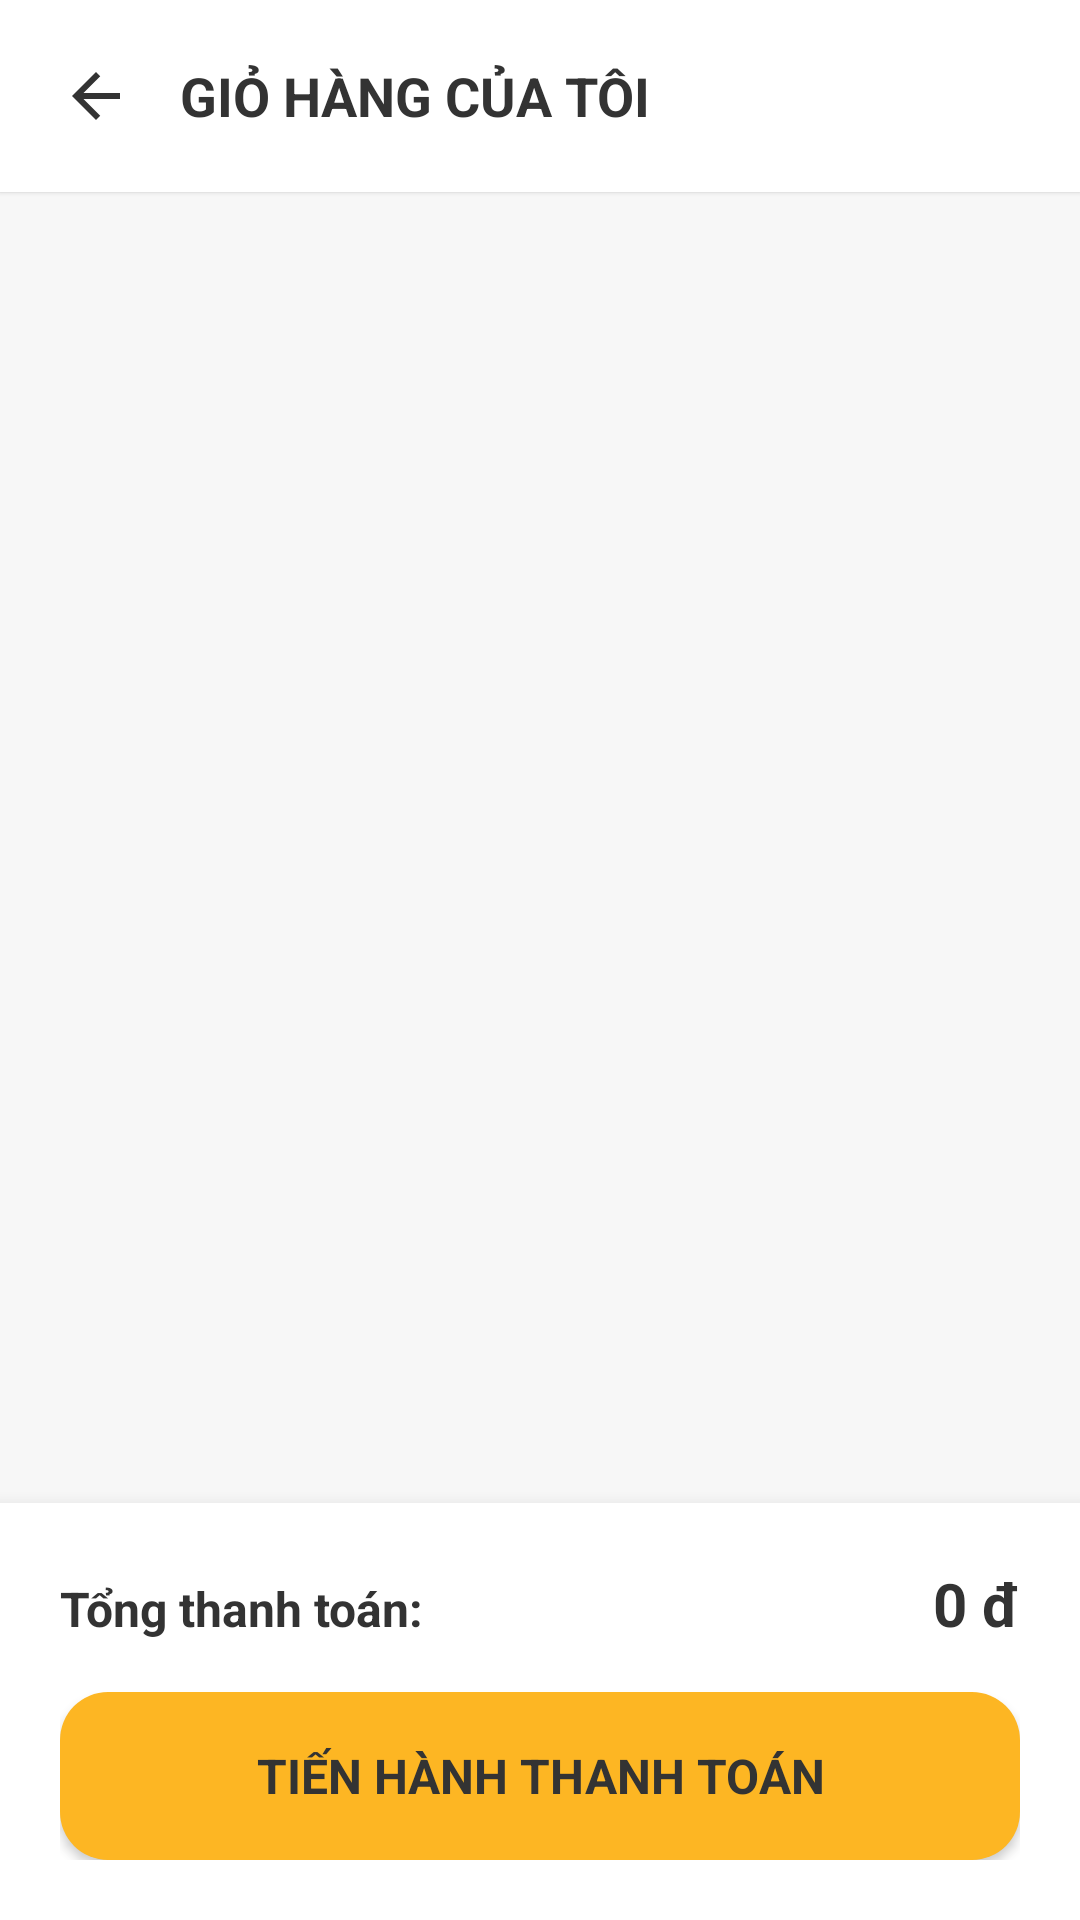

Icons on this 1080x1920 Android screen, each with the point to tap as [x,y]:
arrow back: [96,96]
